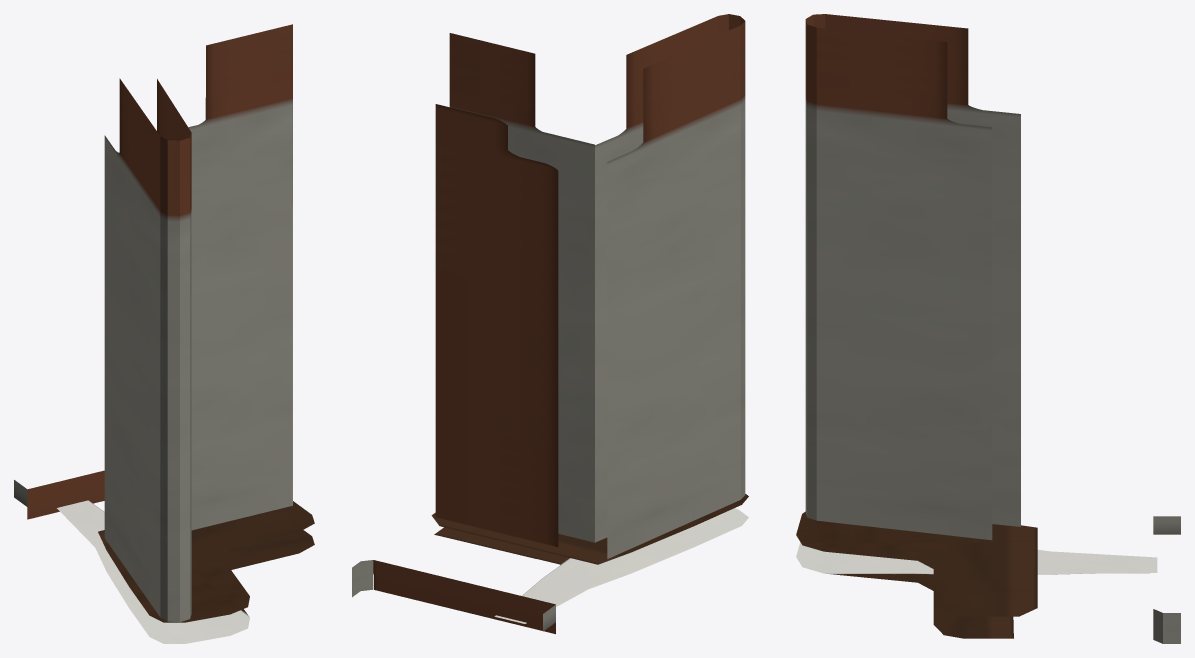
3 views of the same model, side by side, from view 1: azimuth 30°, elevation 25°; view 2: azimuth 150°, elevation 25°; view 3: azimuth 270°, elevation 25° (orthographic). The views are drawn at different scales.
Bounding box in the file's own units: 0.7134 × 1.44 × 0.9834.
